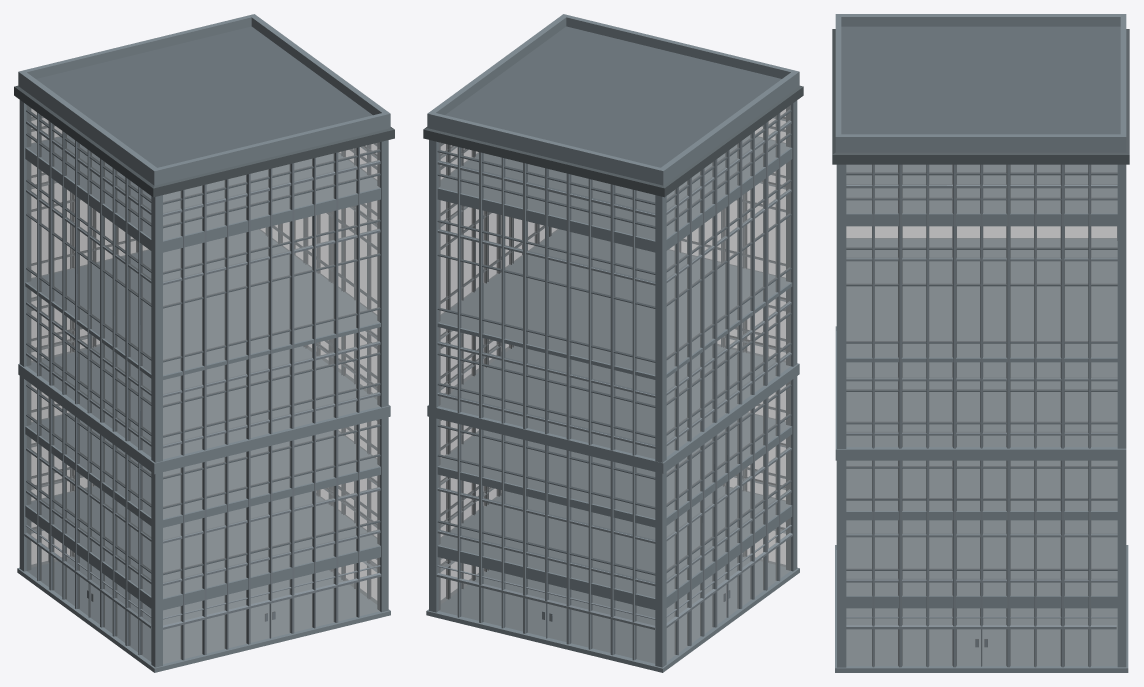
File: SM_Gen_Bld_Background_08.fbx
3 views of the same model, side by side, from view 1: azimuth 30°, elevation 25°; view 2: azimuth 150°, elevation 25°; view 3: azimuth 270°, elevation 25° (orthographic). The views are drawn at different scales.
Visible parts, largest first — view 1: SM_Gen_Bld_Background_08; view 2: SM_Gen_Bld_Background_08; view 3: SM_Gen_Bld_Background_08.
Boxes of the visible parts, <box> form: SM_Gen_Bld_Background_08: <box>14,14,394,672</box>; SM_Gen_Bld_Background_08: <box>423,14,803,672</box>; SM_Gen_Bld_Background_08: <box>832,14,1129,672</box>.
Size of the model in its own units: 1384 by 2745 by 1382.
